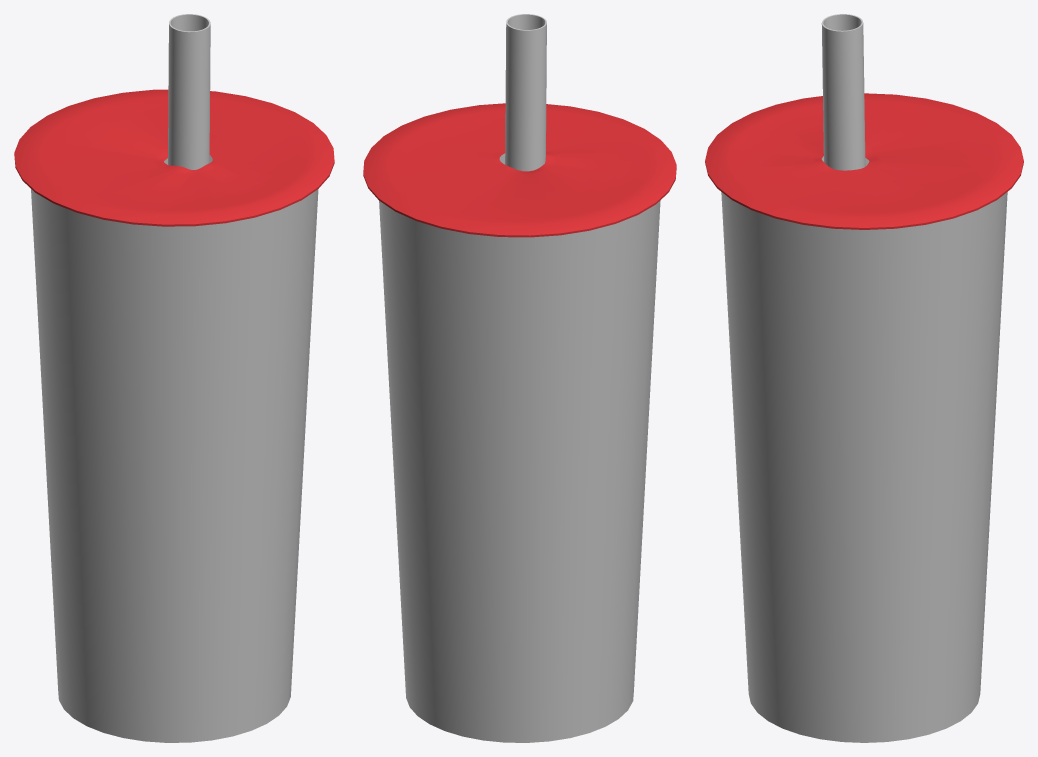
The model's file is milktea.fbx.
3 renders of one model, left to right at view 1: azimuth 30°, elevation 25°; view 2: azimuth 150°, elevation 25°; view 3: azimuth 270°, elevation 25°, orthographic. The views are drawn at different scales.
Visible parts, largest first — view 1: 柱体, 柱体.001; view 2: 柱体, 柱体.001; view 3: 柱体, 柱体.001.
Part boxes in pixels (x1,y1,x2,y2): 柱体: (14, 89, 334, 742); 柱体.001: (168, 14, 210, 169); 柱体: (363, 103, 676, 742); 柱体.001: (505, 14, 546, 171); 柱体: (705, 93, 1023, 742); 柱体.001: (821, 14, 865, 170).
Size of the model in its own units: 69.2 by 161 by 69.2.
